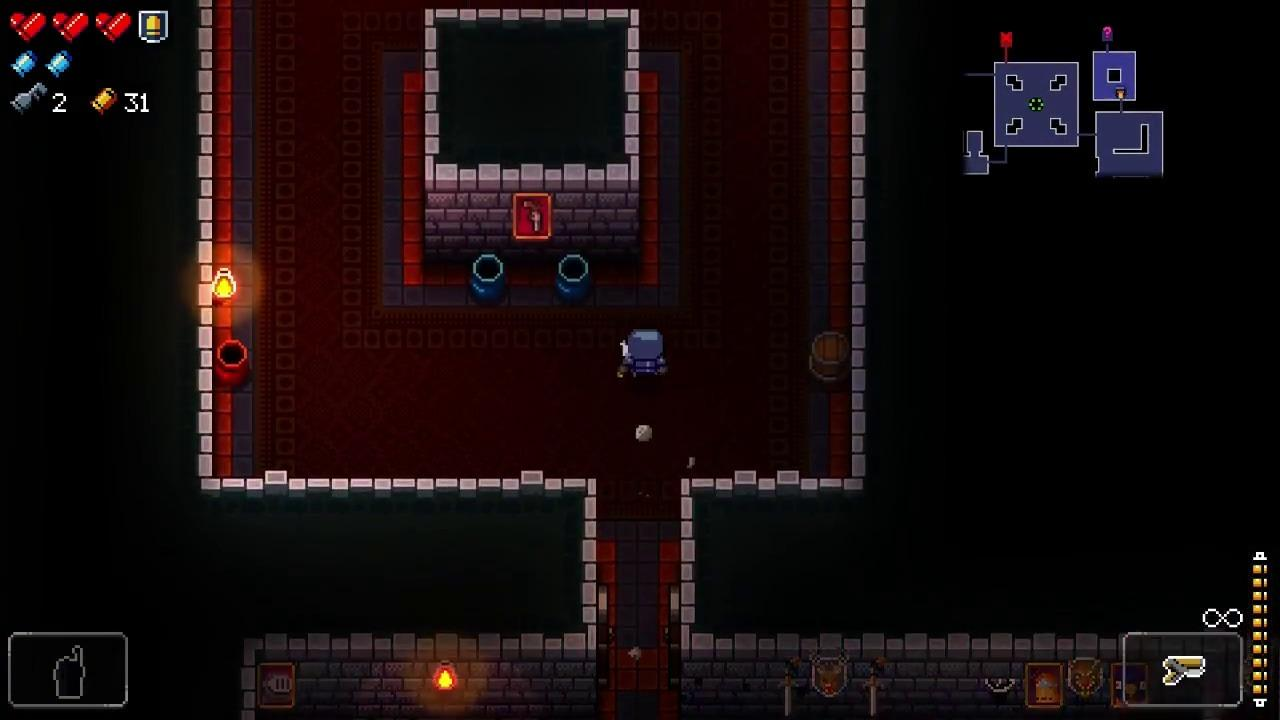player: (625, 326, 666, 380)
unlocked_door: (669, 581, 683, 692), (597, 581, 610, 688)
